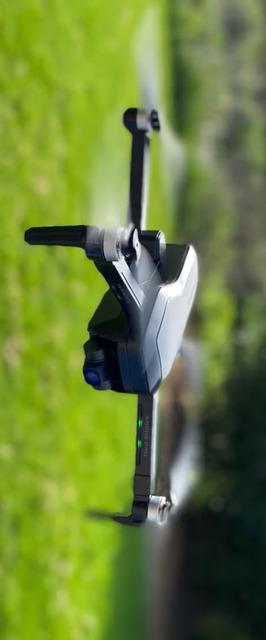drone: (25, 105, 198, 525)
